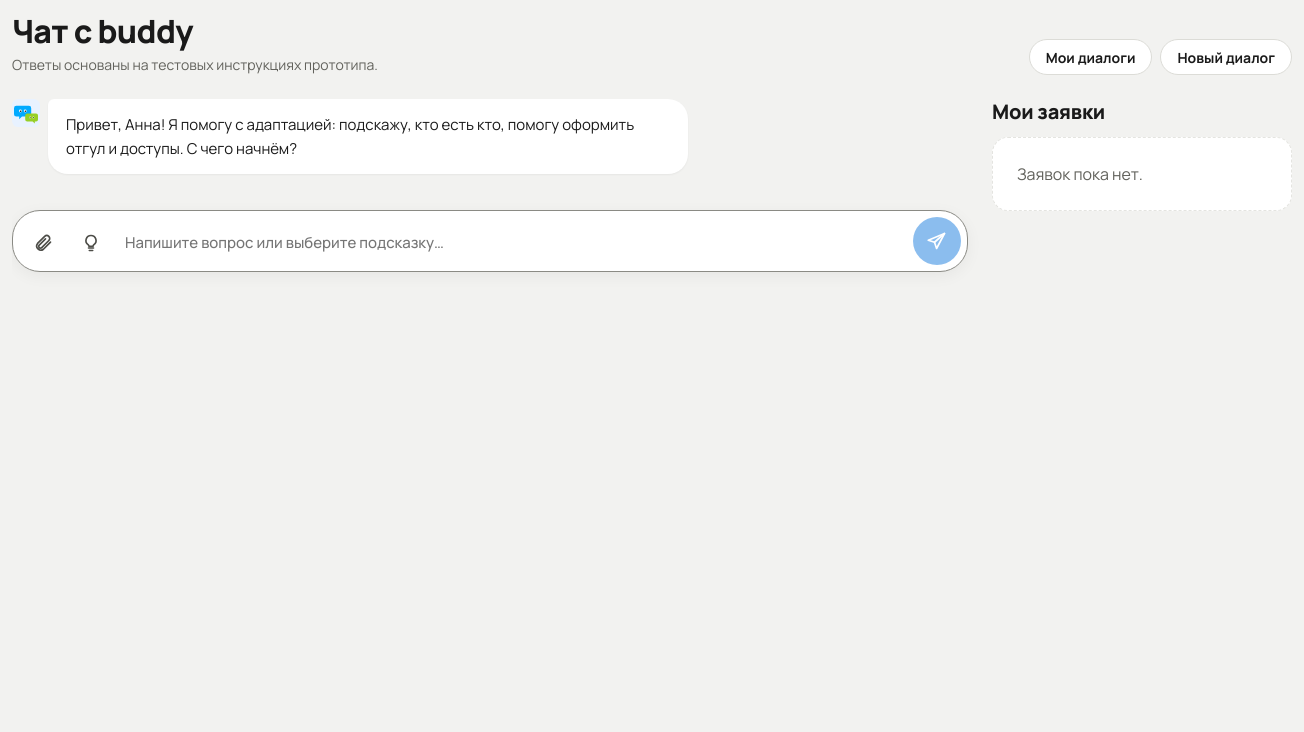
S3 day off flow › S3: cancelling the draft sends nothing
Type "хочу отгул в пятницу" into the dropdown named "Сообщение" at (513, 243), box [117,222,909,265]
Then press Enter
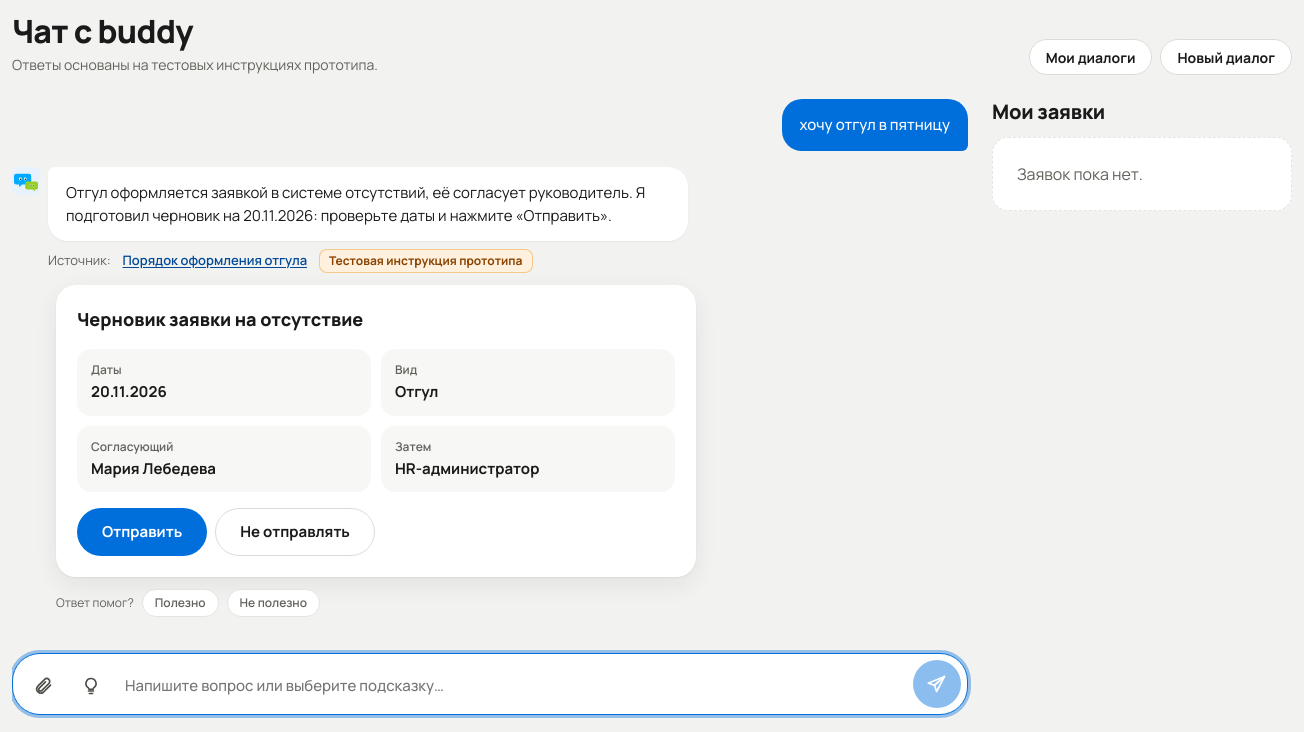
Click the button "Не отправлять" at (295, 532), box [215,508,375,556]
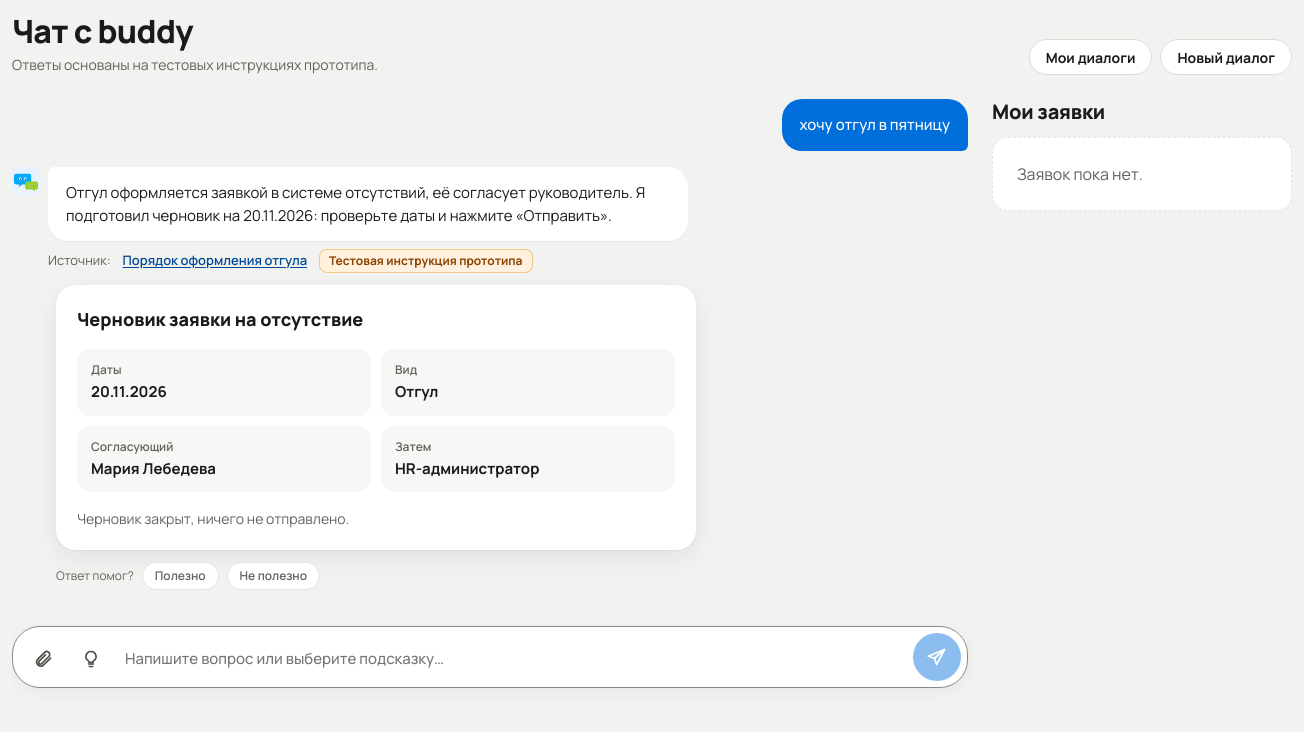
expect the text "Заявок пока нет." is shown: met, box [992,137,1292,211]
expect the text "Черновик закрыт, ничего не отправлено." is shown: met, box [77,509,349,528]
